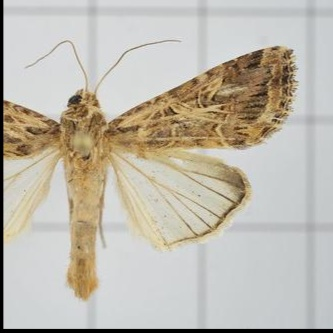Spodoptera litura: (4, 39, 298, 301)
